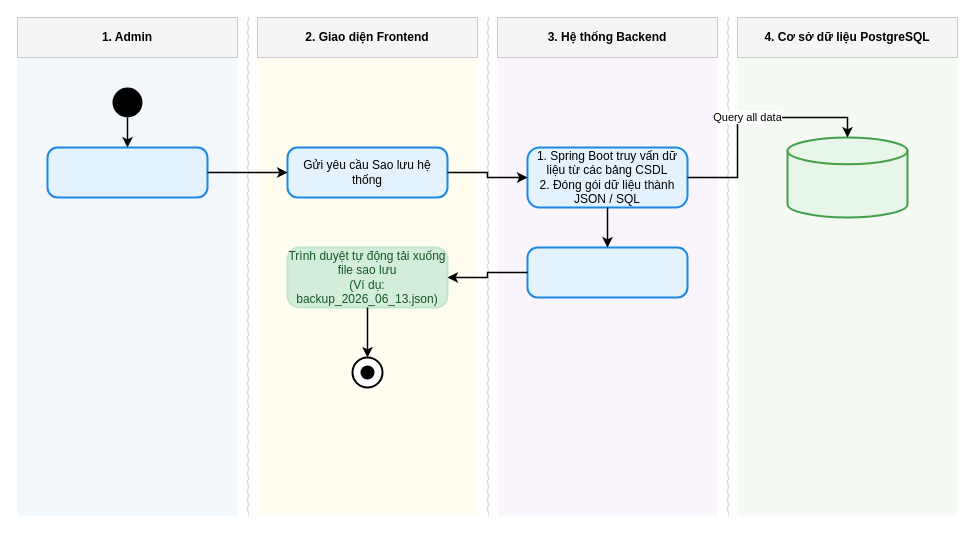
Some shapes in this 975 by 534 pixel diagram are drawn without their labels. The shapes that lost their labels are listed below. From the top down, each one's centre as x and y in pixels, then its label:
the point at 127,172: Click nút Sao lưu (Backup) (Chỉ ADMIN hệ thống)
the point at 847,177: Toàn bộ CSDL PostgreSQL
the point at 607,272: Tạo file tải xuống & trả về dưới dạng Stream
